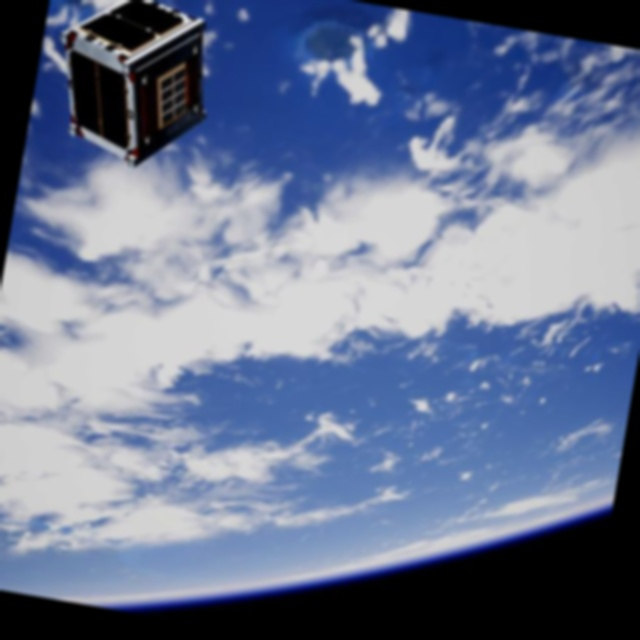medium_debris: (43, 0, 225, 183)
